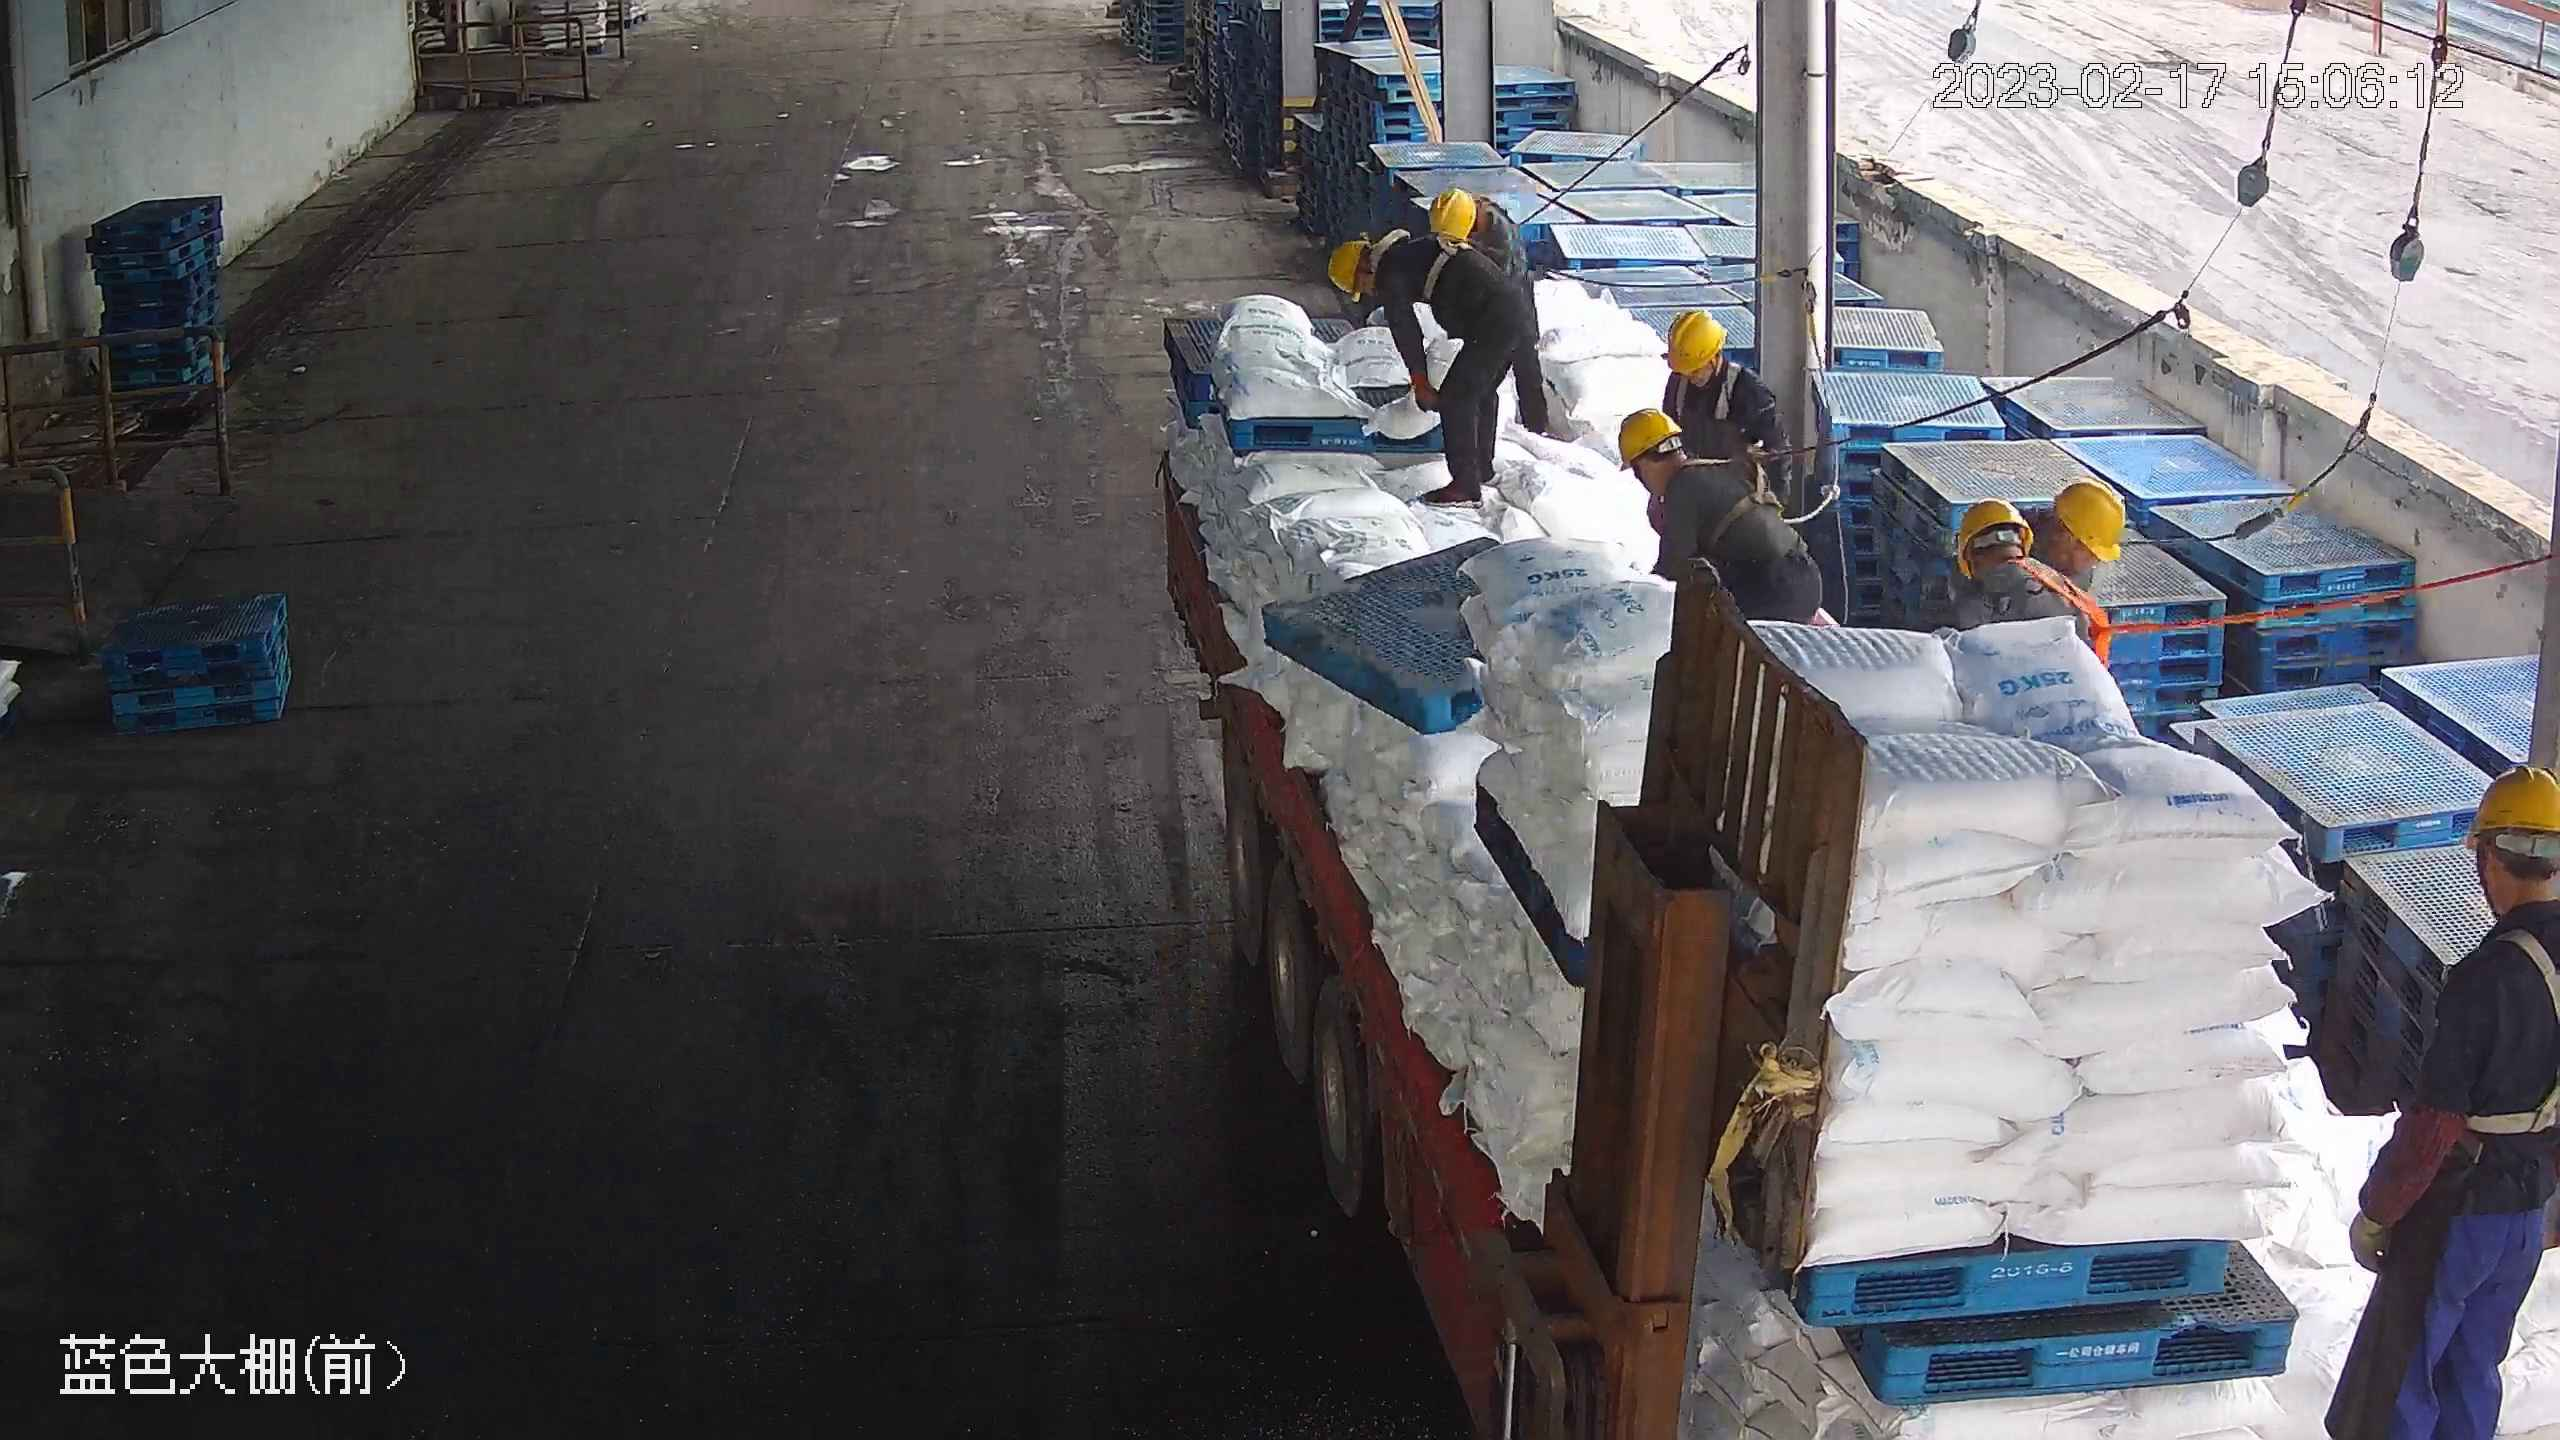belt: (2462, 910, 2560, 1139), (1685, 439, 1808, 549), (2004, 555, 2131, 654), (1675, 358, 1760, 428), (1409, 232, 1479, 312), (1471, 189, 1529, 237)
head: (2429, 759, 2560, 1020), (1958, 488, 2122, 626), (1614, 407, 1747, 525), (1654, 307, 1778, 415), (1326, 227, 1447, 319), (1413, 185, 1497, 269)
helmet: (2462, 763, 2557, 847), (2052, 478, 2127, 561), (1954, 498, 2029, 567), (1663, 306, 1726, 373), (1615, 407, 1681, 470), (1430, 187, 1480, 241), (1327, 238, 1367, 302)
people: (2327, 761, 2558, 1438), (1329, 211, 1547, 504), (1613, 396, 1825, 654)
truck: (1146, 351, 2552, 1440)
